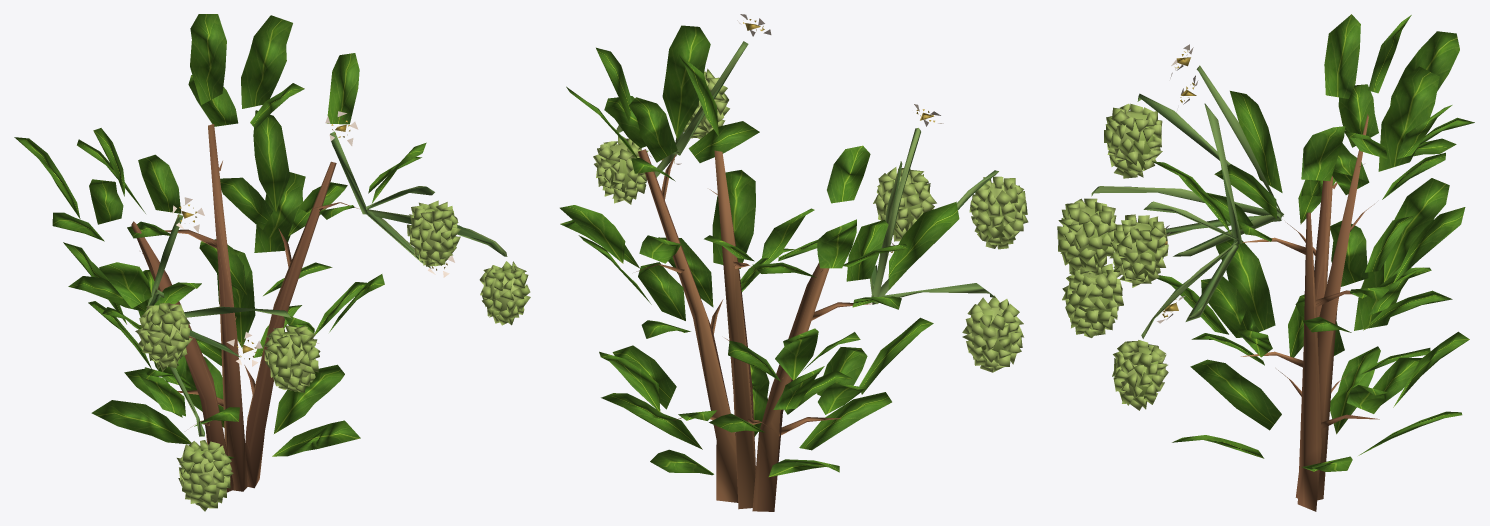
Rendered from NP_Raspberry_Flowering_LOD1.fbx.
3 renders of one model, left to right at view 1: azimuth 30°, elevation 25°; view 2: azimuth 150°, elevation 25°; view 3: azimuth 270°, elevation 25°, orthographic. The views are drawn at different scales.
Visible parts, largest first — view 1: NP_Raspberry_Flowering; view 2: NP_Raspberry_Flowering; view 3: NP_Raspberry_Flowering.
Part boxes in pixels (left/top/right/bottom): NP_Raspberry_Flowering: left=14, top=14, right=530, bottom=511; NP_Raspberry_Flowering: left=560, top=14, right=1028, bottom=511; NP_Raspberry_Flowering: left=1057, top=14, right=1474, bottom=511.
Size of the model in its own units: 87.37 by 94.05 by 73.07.
